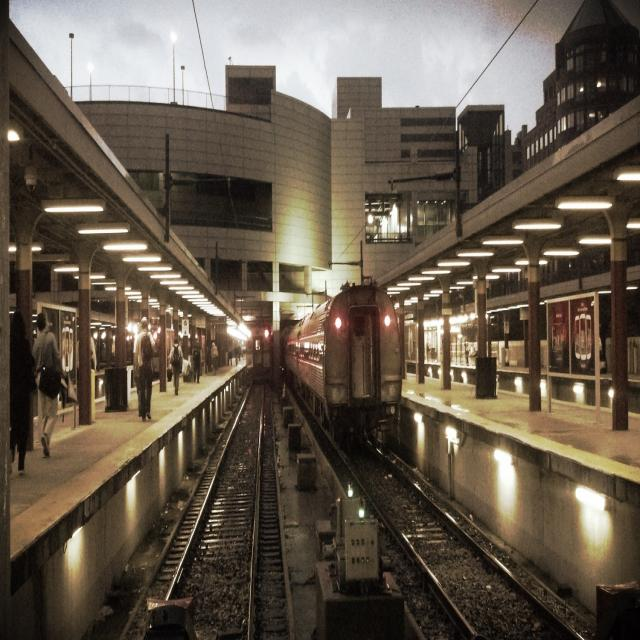body: (31, 311, 65, 460), (10, 310, 38, 478), (184, 339, 250, 383), (134, 313, 157, 422), (410, 332, 473, 367), (133, 323, 148, 418), (167, 336, 184, 397), (90, 331, 97, 374)
